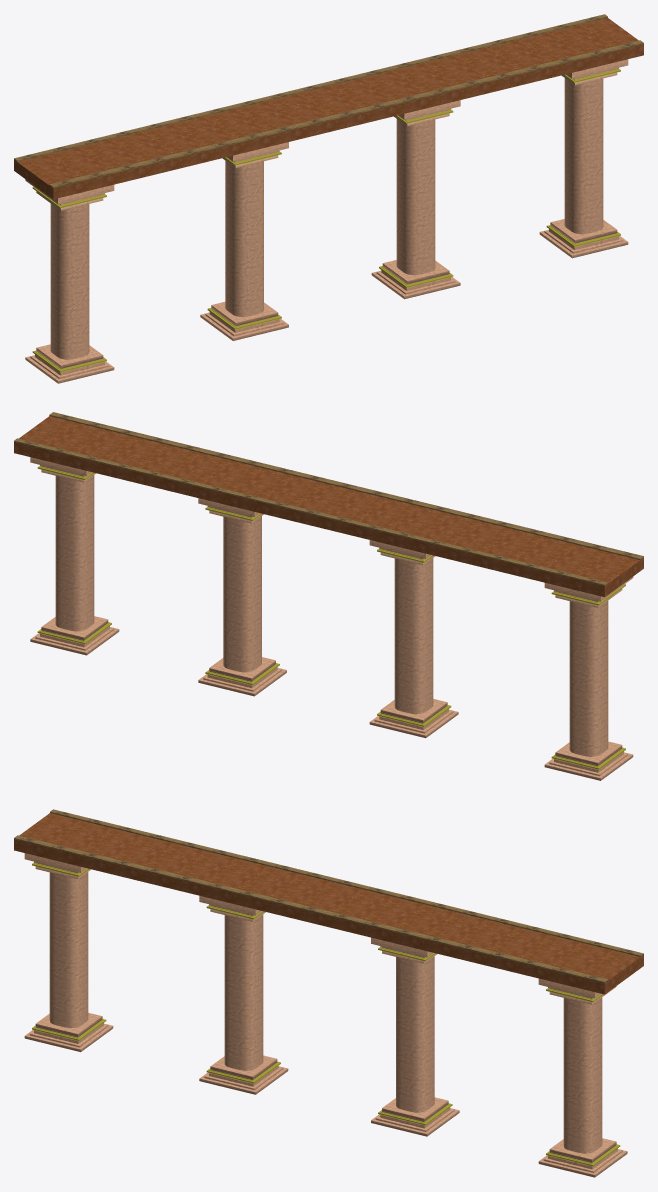
File: Puente4.fbx
The picture shows the model from 3 angles, top to bottom: view 1: azimuth 30°, elevation 25°; view 2: azimuth 150°, elevation 25°; view 3: azimuth 330°, elevation 25°; orthographic projection.
Visible parts, largest first — view 1: Cube.009; view 2: Cube.009; view 3: Cube.009.
Boxes of the visible parts, x1=… form: Cube.009: x1=14, y1=14, x2=643, y2=383; Cube.009: x1=14, y1=412, x2=643, y2=780; Cube.009: x1=14, y1=809, x2=643, y2=1177.
Size of the model in its own units: 5695 by 1859 by 655.
2 materials, 2 textured.
